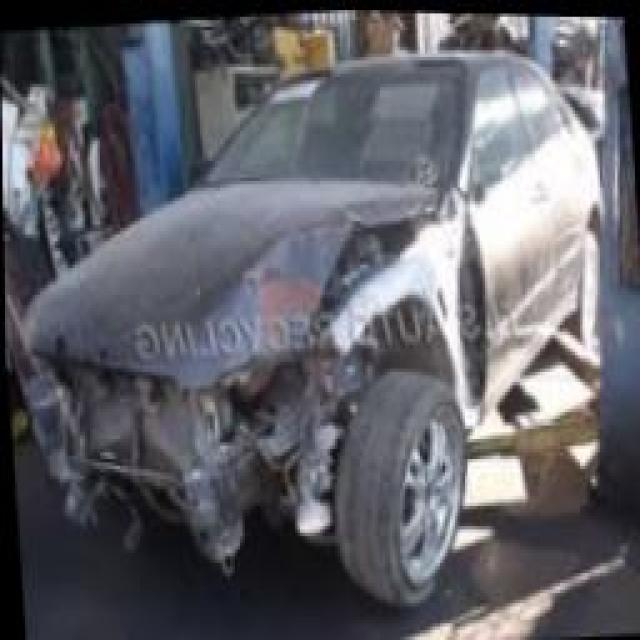Bonnet: (17, 180, 451, 392)
Bumper: (11, 346, 349, 535)
Fender: (332, 258, 455, 369)
Light: (225, 338, 313, 425)
